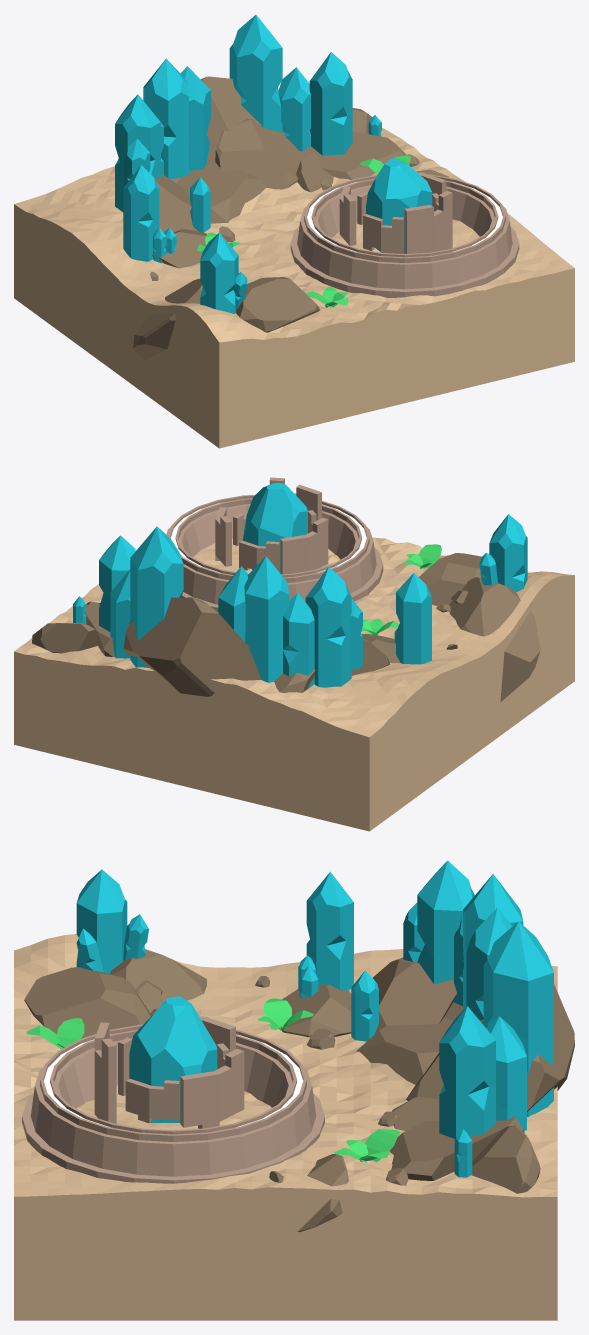
File: crystal_web.gltf
3 renders of one model, top to bottom at view 1: azimuth 30°, elevation 25°; view 2: azimuth 150°, elevation 25°; view 3: azimuth 270°, elevation 25°, orthographic. The views are drawn at different scales.
Visible parts, largest first — view 1: Circle; view 2: Circle; view 3: Circle.
Boxes of the visible parts, bbox=[...] form: Circle: bbox=[14, 15, 574, 448]; Circle: bbox=[14, 477, 574, 831]; Circle: bbox=[14, 860, 574, 1320].
Size of the model in its own units: 8.61 by 5.14 by 8.25.
